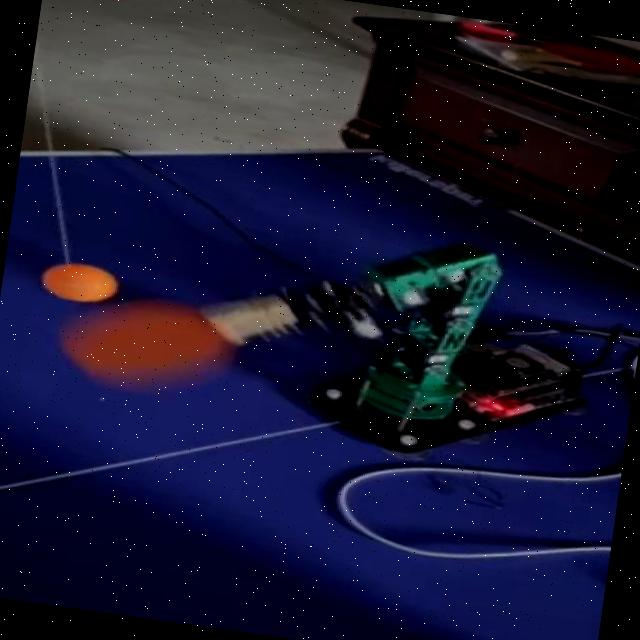ping-pong-ball: (44, 259, 118, 308)
